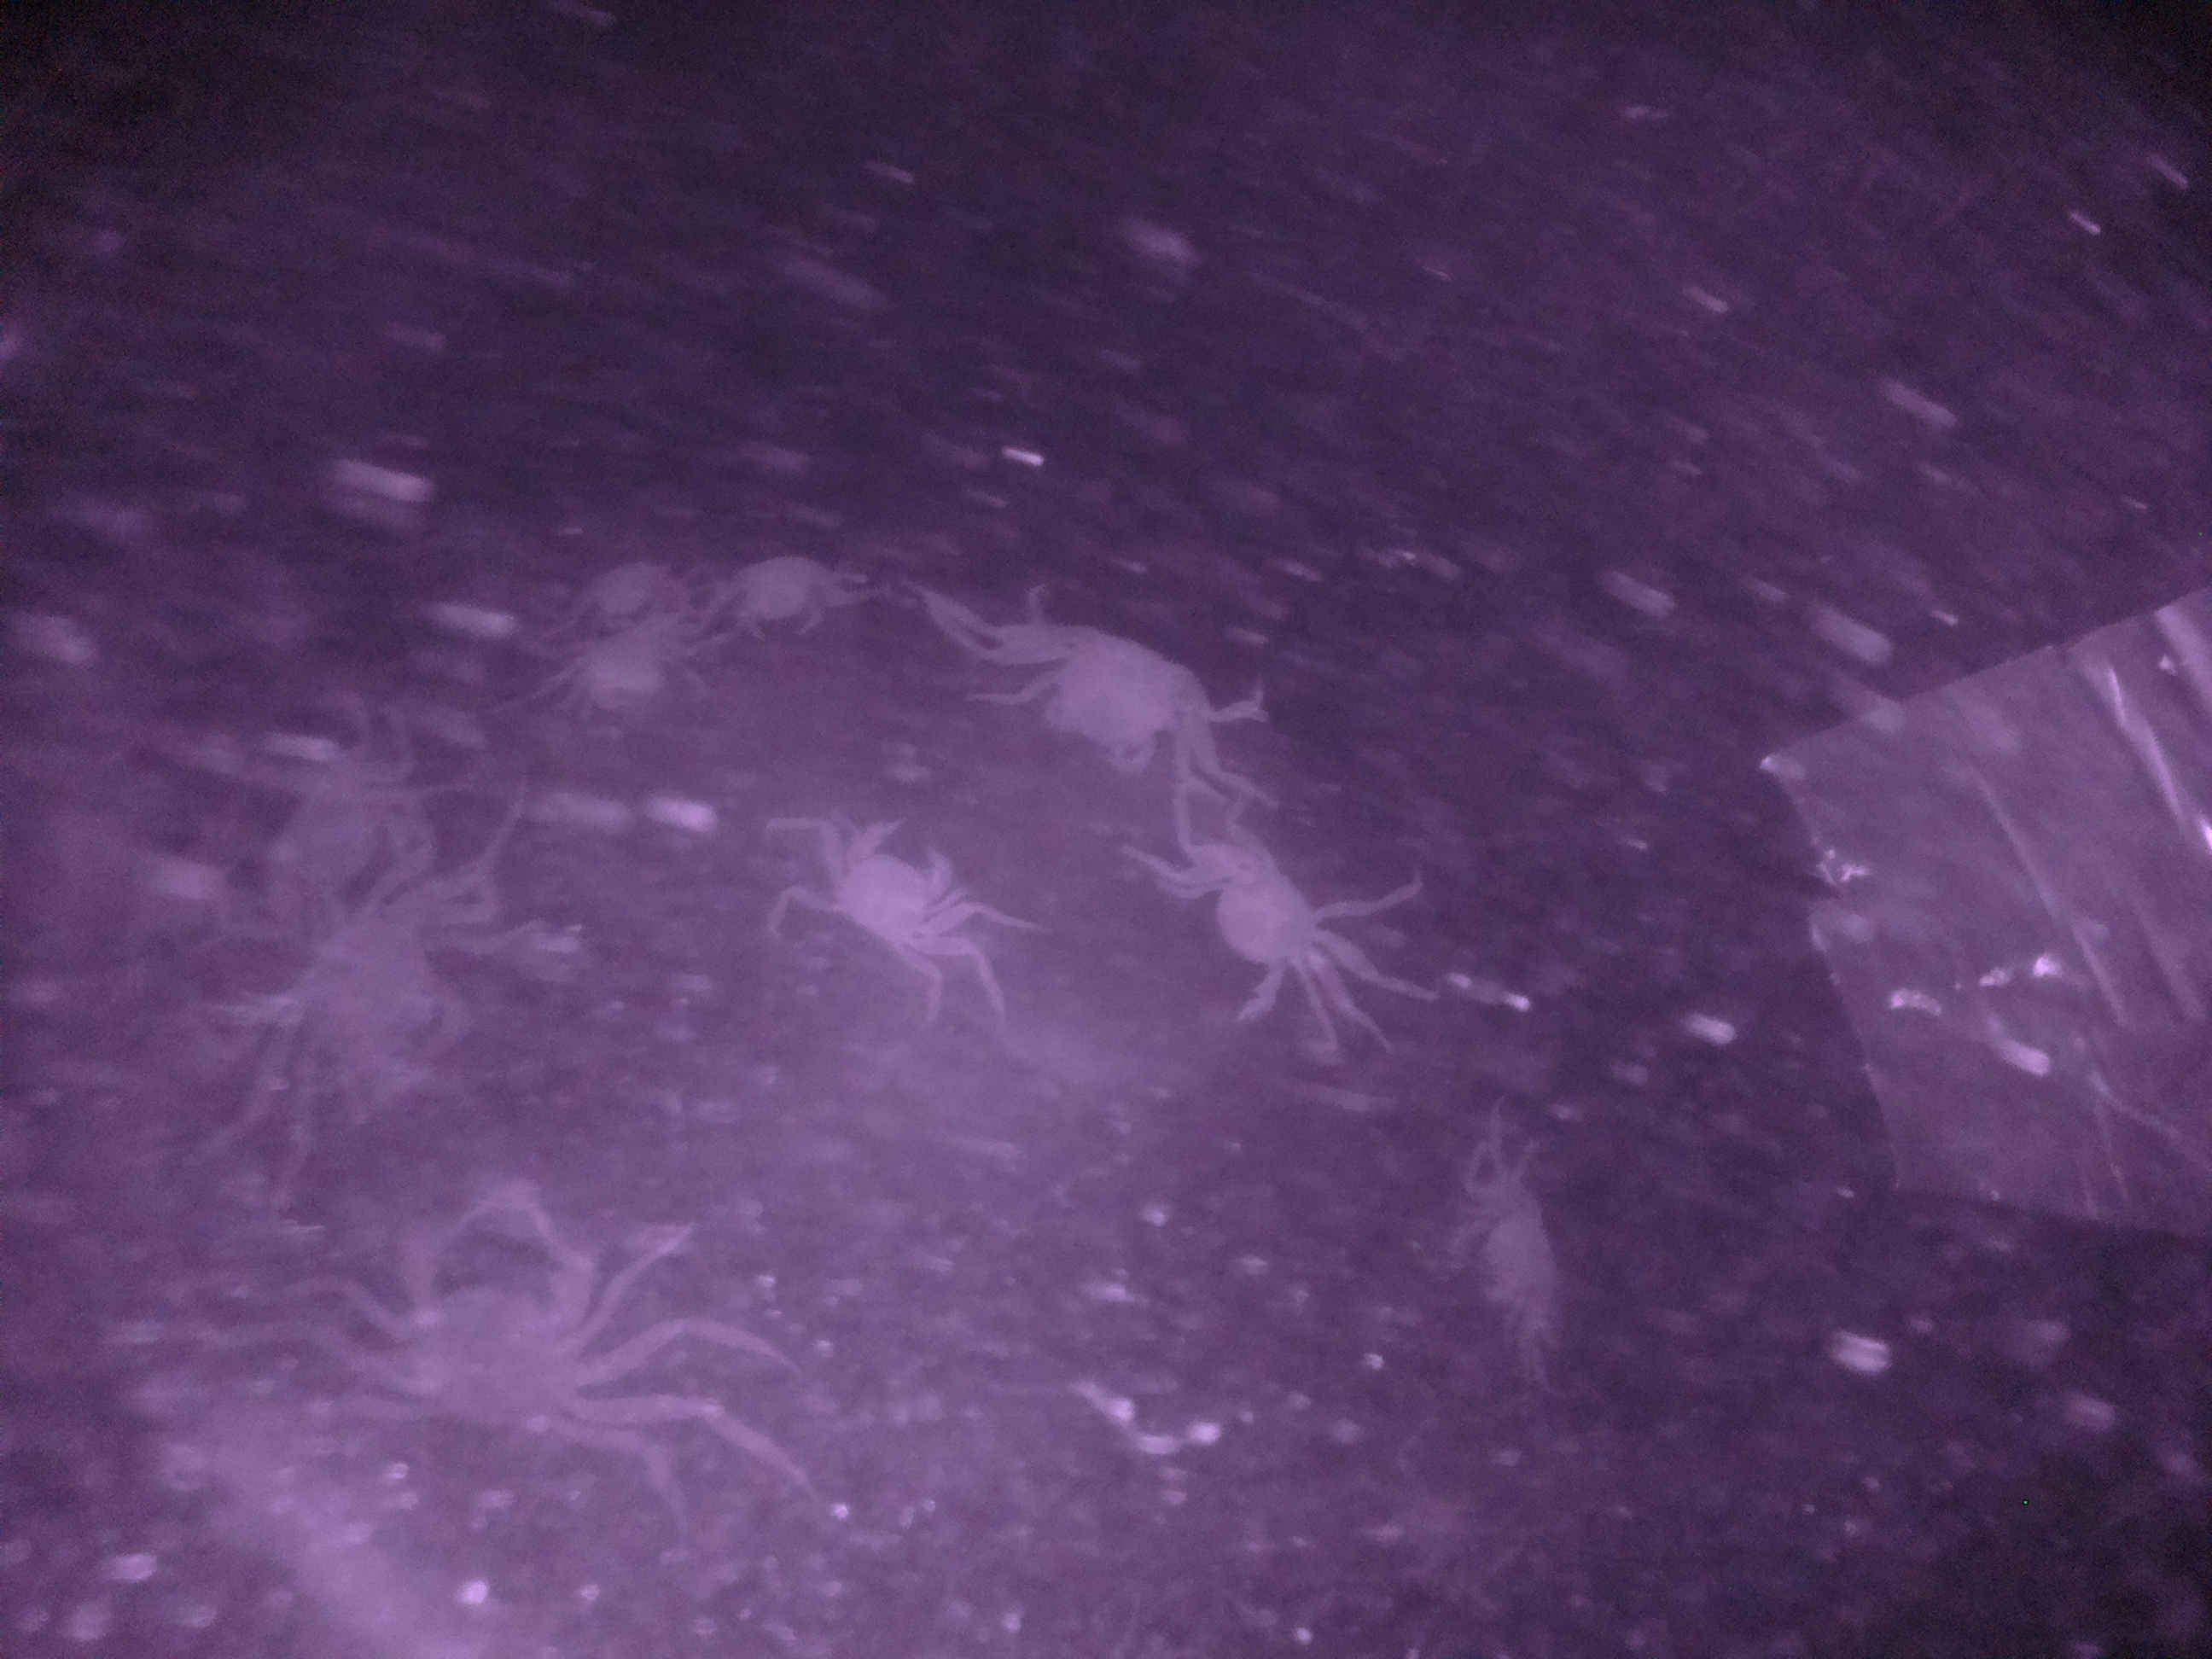Crab: (1007, 592, 1249, 786), (1193, 803, 1352, 1030), (796, 809, 977, 978)
